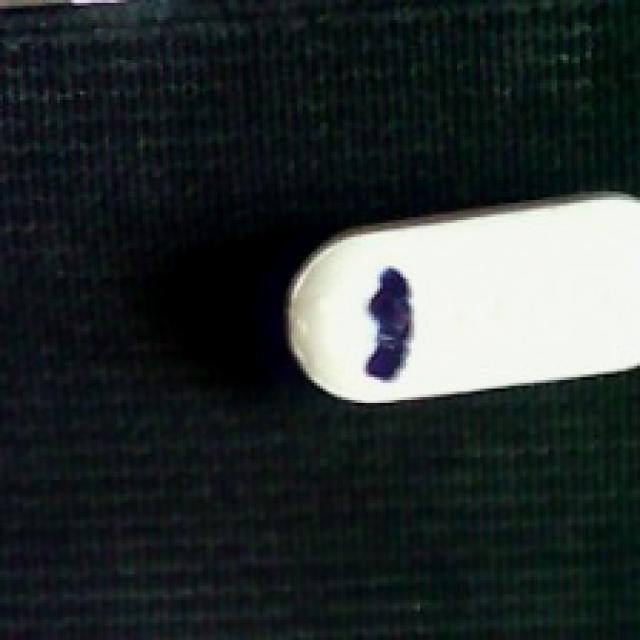defected: (280, 190, 640, 408)
